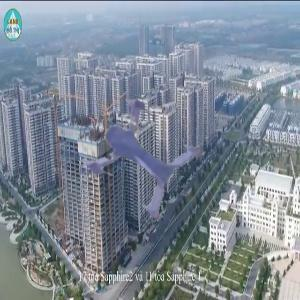drone: (60, 78, 204, 222)
